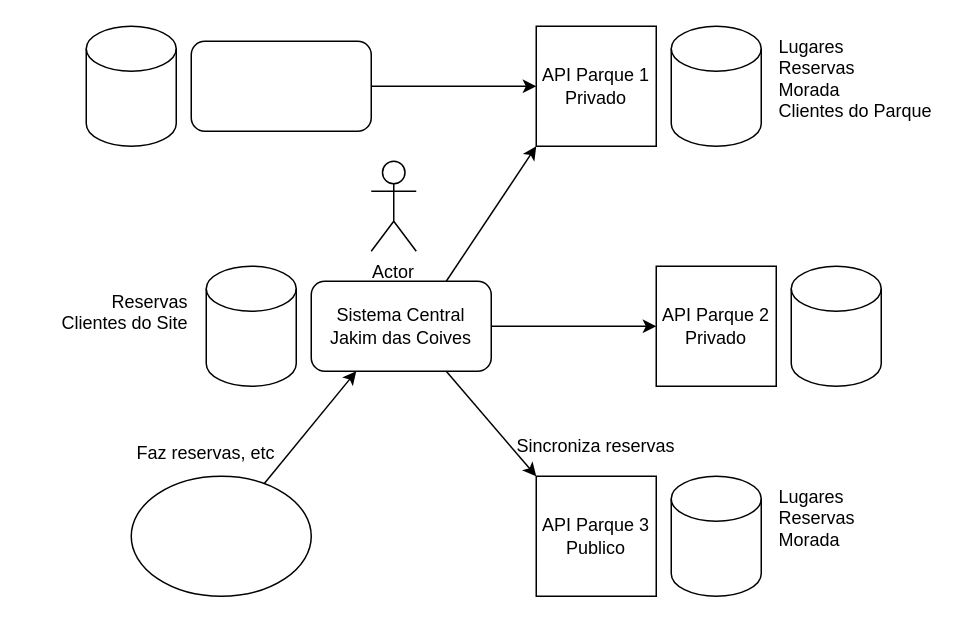
Image size: 966x623. Some labels were removed from this diagram. The centre of each missing label's shape, as x and y in pixels:
Site da concorrencia: (x=280, y=85)
Utilizador (cliente): (x=220, y=535)
